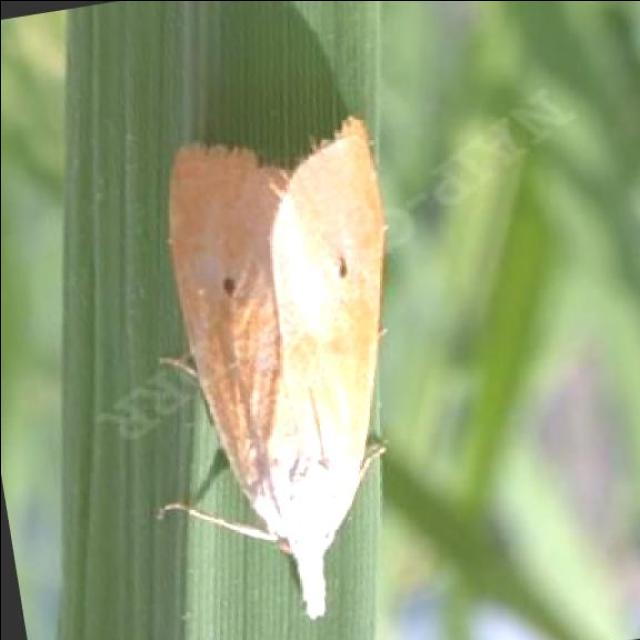stem borer: (158, 117, 386, 618)
